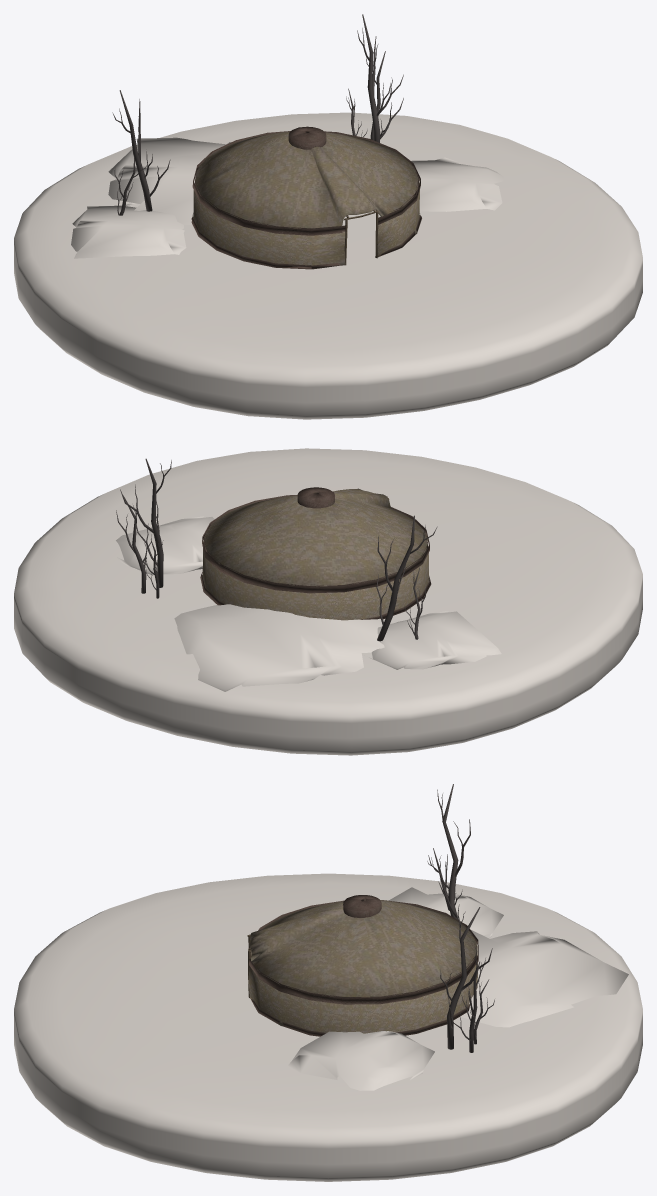
Rendered from winter_scene.glb.
3 views of the same model, one above another, from view 1: azimuth 30°, elevation 25°; view 2: azimuth 150°, elevation 25°; view 3: azimuth 270°, elevation 25° (orthographic). The views are drawn at different scales.
Visible parts, largest first — view 1: Cube, WoodSides_Frame_ColID1.002, WoodenFrame_wood.005, polySurface879, polySurface879_lambert2_0.002, polySurface879_lambert2_0.001, WoodenFrame_wood.004, Cylinder, Cylinder.003, WoodenFrame_wood.006; view 2: Cube, WoodSides_Frame_ColID1.002, polySurface879, WoodenFrame_wood.005, polySurface879_lambert2_0.002, polySurface879_lambert2_0.001, WoodenFrame_wood.004, Cylinder.003, Cylinder, WoodenFrame_wood.006, Cylinder.002; view 3: Cube, WoodSides_Frame_ColID1.002, polySurface879, WoodenFrame_wood.005, polySurface879_lambert2_0.001, WoodenFrame_wood.004, polySurface879_lambert2_0.002, Cylinder, Cylinder.003, WoodenFrame_wood.006, Cylinder.002.
Part boxes in pixels (<box>): Cube: <box>14,112,642,419</box>; WoodSides_Frame_ColID1.002: <box>195,131,418,228</box>; WoodenFrame_wood.005: <box>193,183,419,265</box>; polySurface879: <box>108,137,230,224</box>; polySurface879_lambert2_0.002: <box>71,203,186,258</box>; polySurface879_lambert2_0.001: <box>411,157,503,211</box>; WoodenFrame_wood.004: <box>191,131,421,269</box>; Cylinder: <box>357,14,403,142</box>; Cylinder.003: <box>112,90,170,211</box>; WoodenFrame_wood.006: <box>288,126,326,149</box>; Cube: <box>14,448,642,755</box>; WoodSides_Frame_ColID1.002: <box>204,488,427,586</box>; polySurface879: <box>174,604,384,691</box>; WoodenFrame_wood.005: <box>202,541,429,620</box>; polySurface879_lambert2_0.002: <box>364,611,501,669</box>; polySurface879_lambert2_0.001: <box>116,516,214,575</box>; WoodenFrame_wood.004: <box>200,495,431,619</box>; Cylinder.003: <box>376,515,437,641</box>; Cylinder: <box>120,458,171,587</box>; WoodenFrame_wood.006: <box>297,487,334,508</box>; Cylinder.002: <box>116,495,151,593</box>; Cube: <box>14,873,642,1181</box>; WoodSides_Frame_ColID1.002: <box>249,900,477,997</box>; polySurface879: <box>460,930,628,1027</box>; WoodenFrame_wood.005: <box>248,945,477,1033</box>; polySurface879_lambert2_0.001: <box>288,1031,434,1090</box>; WoodenFrame_wood.004: <box>249,900,478,1036</box>; polySurface879_lambert2_0.002: <box>389,887,503,937</box>; Cylinder: <box>440,904,492,1049</box>; Cylinder.003: <box>428,784,470,919</box>; WoodenFrame_wood.006: <box>343,895,381,917</box>; Cylinder.002: <box>451,958,485,1052</box>.
Size of the model in its own units: 0.2831 by 0.1034 by 0.2831.
Materials: 7 (5 with a texture image).
